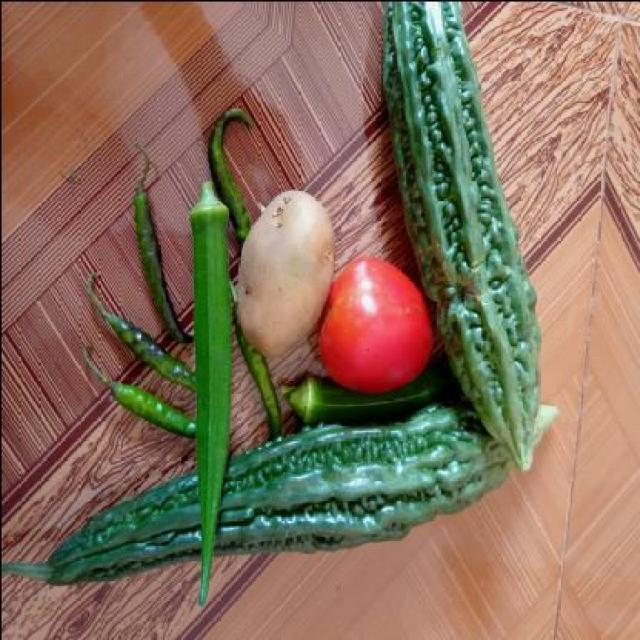Bitter melon: (0, 412, 514, 612), (426, 0, 561, 478)
Green Chili: (106, 148, 179, 338)
Lady finger: (178, 189, 242, 606)
Potato: (230, 178, 338, 354)
Tomato: (314, 262, 434, 384)
